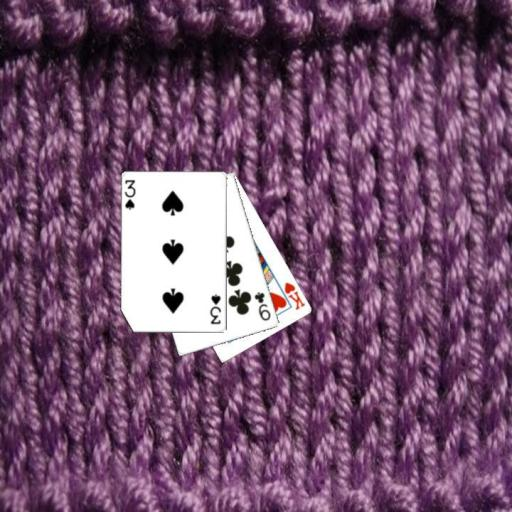3S: (208, 292, 223, 326), (123, 177, 138, 211)
9C: (251, 289, 272, 322)
KH: (282, 279, 307, 311)
